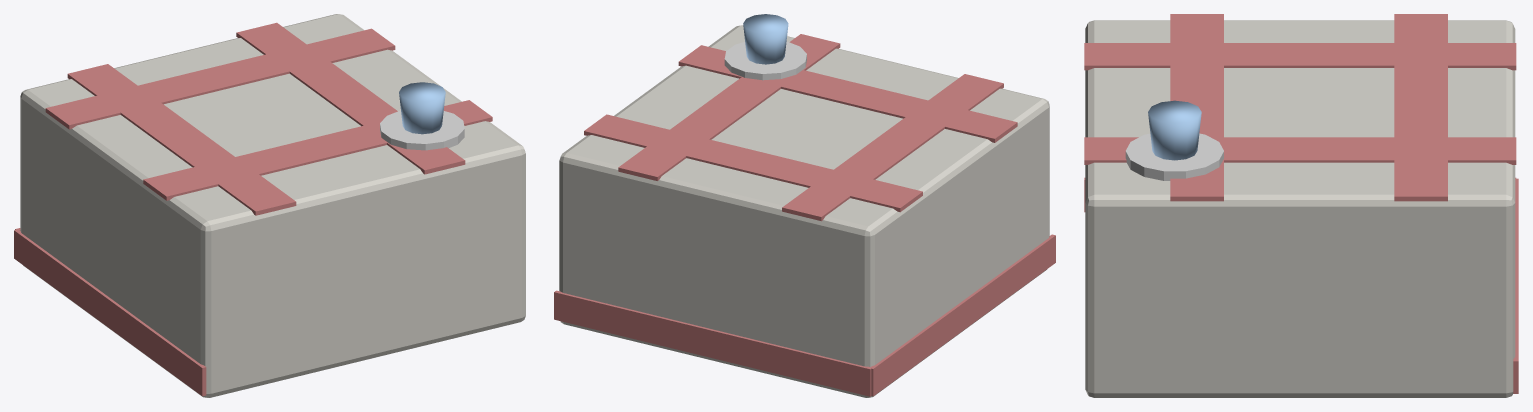
Rendered from table_corner.glb.
The picture shows the model from 3 angles, left to right: view 1: azimuth 30°, elevation 25°; view 2: azimuth 150°, elevation 25°; view 3: azimuth 270°, elevation 25°; orthographic projection. The views are drawn at different scales.
Parts seen in each view (by area): view 1: table_corner; view 2: table_corner; view 3: table_corner.
Boxes of the visible parts, <box> form: table_corner: <box>14,14,525,397</box>; table_corner: <box>554,14,1055,397</box>; table_corner: <box>1084,14,1518,397</box>.
Size of the model in its own units: 0.9705 by 0.62 by 0.9705.
